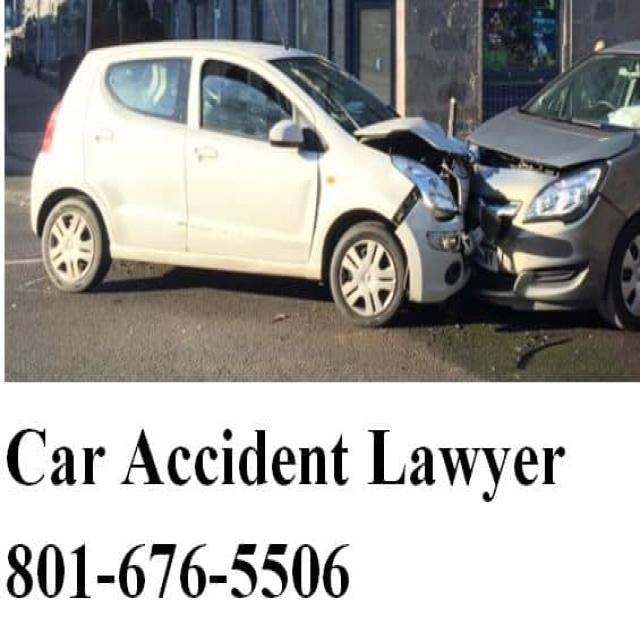crush: (348, 116, 484, 258), (469, 141, 606, 244)
